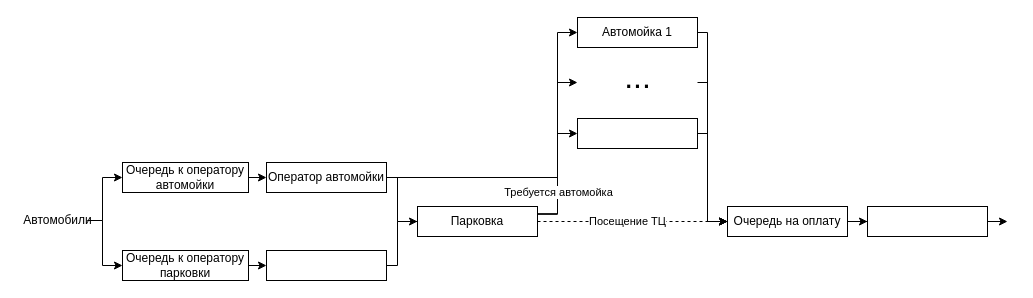
This 1033x298 diagram has some shape labels left out. The centre of each missing label's shape, as x and y in pixels:
Автомойка n: point 637,133
Оператор оплаты: point 927,221
Оператор парковки: point 326,265
